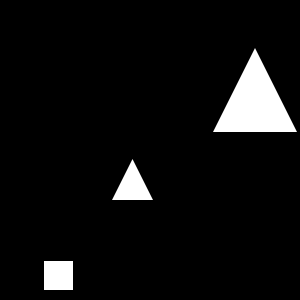circle: (44, 261, 73, 290)
triangle: (213, 48, 297, 132), (112, 159, 153, 200)
